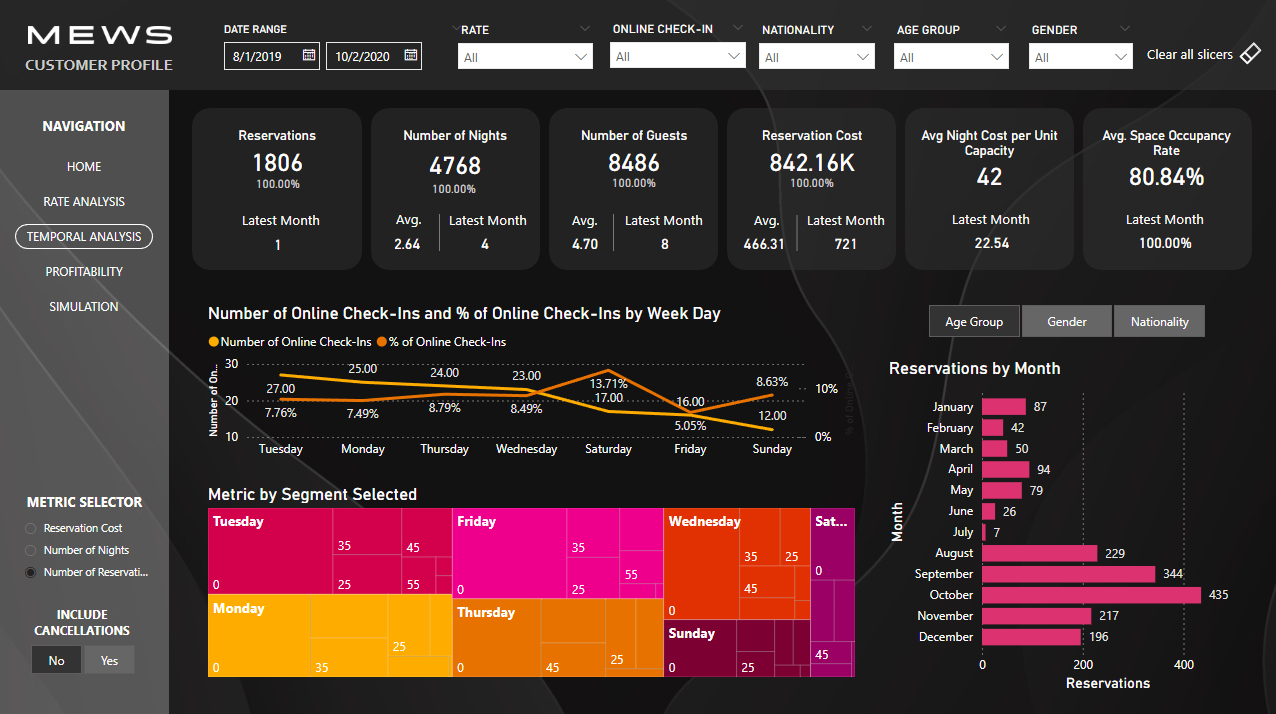

The page's visual inventory and layout, read from the dashboard file:
{"tool":"powerbi","page":{"name":"TEMPORAL ANALYSIS","canvas":[1280,720],"ordinal":2},"visuals":[{"type":"card","title":"Reservations","fields":{"Values":["int_reservations_enriched.Reservations"]},"box":[192.5,130,170,58.3],"z":0,"group":"g4"},{"type":"card","title":"Number of Nights","fields":{"Values":["int_reservations_enriched.Total Nights"]},"box":[371.4,130,169.2,62.5],"z":0,"group":"g3"},{"type":"card","title":"Number of Guests","fields":{"Values":["int_reservations_enriched.Number of Guests"]},"box":[550,130,170,56.7],"z":0,"group":"g2"},{"type":"card","title":"Reservation Cost","fields":{"Values":["int_reservations_enriched.Total Reservation Cost"]},"box":[727.5,130,170,56.7],"z":0,"group":"g1"},{"type":"shape","title":"Shader","box":[0,0,1280,720.9],"z":1000},{"type":"card","title":"Reservations %","fields":{"Values":["int_reservations_enriched.% Reservations"]},"box":[193.7,151.7,170,71.7],"z":1000,"group":"g4"},{"type":"card","title":"Number of Guests %","fields":{"Values":["int_reservations_enriched.% Reservation Cost"]},"box":[550,172.5,170,27.5],"z":1000,"group":"g2"},{"type":"card","title":"Night Cost %","fields":{"Values":["int_reservations_enriched.% Reservation Cost"]},"box":[727.5,172.5,170,27.5],"z":1000,"group":"g1"},{"type":"card","title":"% Number of Nights","fields":{"Values":["int_reservations_enriched.% Nights"]},"box":[370,177.9,170,28.3],"z":1000,"group":"g3"},{"type":"shape","title":"Side Bar","box":[0,91.9,169.8,627.7],"z":2000},{"type":"shape","title":"Header Bar","box":[0,0,1280,91.7],"z":3000},{"type":"textbox","title":"Customer Profile Text","box":[20.8,51.7,165.8,30.8],"z":4000},{"type":"image","title":"Mews Logo","box":[24.2,14.2,154.2,45.8],"z":5000},{"type":"shape","box":[193.3,110,169.2,161.7],"z":6000},{"type":"shape","box":[371.7,110,169.2,161.7],"z":7000},{"type":"shape","box":[1084.2,110,169.2,161.7],"z":8000},{"type":"shape","box":[905.8,110,169.2,161.7],"z":9000},{"type":"shape","box":[550,110,169.2,161.7],"z":10000},{"type":"shape","box":[727.5,110,169.2,161.7],"z":11000},{"type":"card","title":"Avg Night Cost per Unit Capacity","fields":{"Values":["int_reservations_enriched.AvgNightCostPerUnitCapacity"]},"box":[905.8,130,169.2,70.8],"z":12000},{"type":"actionButton","title":"Clear Slicers","box":[1144.2,30,123.3,50],"z":13000},{"type":"textbox","box":[0,114.2,170,31.7],"z":14000},{"type":"group","id":"g1","title":"Night Cost KPI","box":[727.5,130,170,70],"z":15000},{"type":"group","id":"g2","title":"Number of Guests KPI","box":[550,130,170,70],"z":16000},{"type":"group","id":"g3","title":"Number of Nights KPI","box":[370,130,170.8,75.8],"z":17000},{"type":"group","id":"g4","title":"Reservations KPI","box":[192.5,130,171.2,93.3],"z":18000},{"type":"treemap","title":"Metric by Segment","fields":{"Values":["int_reservations_enriched.Reservations"],"Details":["int_reservations_enriched.gender"],"Group":["int_reservations_enriched.WeekdayName"]},"box":[194.1,500.5,1059.9,197.2],"z":19000},{"type":"columnChart","fields":{"Y":["int_reservations_enriched.Reservations"],"Category":["int_reservations_enriched.start_datetime_utc.Variation.Date Hierarchy.Month"]},"box":[194.5,323.1,1059.3,162.9],"z":20000},{"type":"card","title":"Avg.","fields":{"Values":["int_reservations_enriched.avg_number_of_guests"]},"box":[548.3,216,75.8,62.5],"z":21000},{"type":"textbox","box":[568.3,207.5,46.7,33.3],"z":22000},{"type":"shape","box":[595.8,215.8,37.5,36.7],"z":23000},{"type":"card","title":"Avg.","fields":{"Values":["int_reservations_enriched.most_recent_month_guest_count"]},"box":[628.5,215.8,75.8,62.5],"z":24000},{"type":"textbox","box":[621,207.5,95.8,45],"z":25000},{"type":"card","title":"Avg.","fields":{"Values":["int_reservations_enriched.avg_number_of_nights"]},"box":[370,215.8,75.8,62.5],"z":26000},{"type":"textbox","box":[391.7,206.7,49.2,33.3],"z":27000},{"type":"shape","box":[421.7,215.8,37.5,36.7],"z":28000},{"type":"card","title":"Avg.","fields":{"Values":["int_reservations_enriched.latest_month_number_of_nights"]},"box":[448.3,215.8,75.8,62.5],"z":29000},{"type":"textbox","box":[445,207.5,95.8,45],"z":30000},{"type":"card","title":"Avg.","fields":{"Values":["int_reservations_enriched.latest_month_number_of_reservations"]},"box":[240.8,216.7,75.8,62.5],"z":31000},{"type":"textbox","box":[237.5,207.5,95.8,45],"z":32000},{"type":"card","title":"Avg. Space Occupancy Rate","fields":{"Values":["int_reservations_enriched.avg_occupancy_rate"]},"box":[1084.3,130.2,166.5,70.6],"z":33000},{"type":"card","title":"Avg.","fields":{"Values":["int_reservations_enriched.avg_reservation_cost"]},"box":[727.5,215.8,75.8,62.5],"z":34000},{"type":"textbox","box":[750,208.3,46.7,33.3],"z":35000},{"type":"shape","box":[779.2,216.7,37.5,36.7],"z":36000},{"type":"card","title":"Avg.","fields":{"Values":["int_reservations_enriched.latest_month_reservation_costs"]},"box":[809.2,215.8,75.8,62.5],"z":37000},{"type":"textbox","box":[803.3,208.3,95.8,45],"z":38000},{"type":"card","title":"Avg.","fields":{"Values":["int_reservations_enriched.latest_month_occupancy_rate"]},"box":[1128.3,214.2,75.8,62.5],"z":39000},{"type":"textbox","box":[1122.5,206.7,95.8,45],"z":40000},{"type":"card","title":"Avg.","fields":{"Values":["int_reservations_enriched.latest_month_night_cost_per_unit_capacity"]},"box":[955,214.2,75.8,62.5],"z":41000},{"type":"textbox","box":[948.3,206.7,95.8,45],"z":42000},{"type":"slicer","title":"Segment","fields":{"Values":["Legend Selector.Legend Selector"]},"box":[948.3,304.9,326.3,45.9],"z":43000},{"type":"pageNavigator","box":[15.8,155.8,138.3,167.2],"z":44000},{"type":"slicer","title":"Gender Slicer","fields":{"Values":["int_reservations_enriched.gender"]},"box":[1019.8,20.2,124.5,71.8],"z":45000},{"type":"slicer","title":"Nationality Slicer","fields":{"Values":["int_reservations_enriched.nationality_code"]},"box":[749.7,19.9,136,72.6],"z":46000},{"type":"slicer","title":"Age Slicer","fields":{"Values":["int_reservations_enriched.age_group"]},"box":[885.2,20.2,134.5,71.8],"z":47000},{"type":"slicer","title":"Rate Slicer","fields":{"Values":["int_reservations_enriched.rate_name"]},"box":[448.6,19.9,155.1,72.6],"z":48000},{"type":"slicer","title":"Rate Slicer","fields":{"Values":["int_reservations_enriched.OnlineCheckinText"]},"box":[601.4,19.1,155.1,72.6],"z":49000},{"type":"slicer","fields":{"Values":["int_reservations_enriched.start_datetime_utc"]},"box":[212.4,19.9,262.1,65],"z":50000},{"type":"slicer","title":"INCLUDE CANCELLATIONS","fields":{"Values":["IncludeCancellations.Include"]},"box":[6.1,607.5,154.4,75.7],"z":51000},{"type":"slicer","title":"METRIC SELECTOR","fields":{"Values":["Parameter.Metric Selector"]},"box":[13,503.1,144.2,104.3],"z":52000}]}

Visuals, with their boxes in screenshot pixels (x1, y1, x2, y2), scaled from the page's 1280x720 canvas onto the 1276x714 screenshot:
"Reservations" card: region(192, 129, 361, 187)
"Number of Nights" card: region(370, 129, 539, 191)
"Number of Guests" card: region(548, 129, 718, 185)
"Reservation Cost" card: region(725, 129, 895, 185)
"Shader" shape: region(0, 0, 1275, 713)
"Reservations %" card: region(193, 150, 363, 222)
"Number of Guests %" card: region(548, 171, 718, 198)
"Night Cost %" card: region(725, 171, 895, 198)
"% Number of Nights" card: region(369, 176, 538, 204)
"Side Bar" shape: region(0, 91, 169, 713)
"Header Bar" shape: region(0, 0, 1275, 91)
"Customer Profile Text" textbox: region(21, 51, 186, 82)
"Mews Logo" image: region(24, 14, 178, 60)
shape: region(193, 109, 361, 269)
shape: region(371, 109, 539, 269)
shape: region(1081, 109, 1249, 269)
shape: region(903, 109, 1072, 269)
shape: region(548, 109, 717, 269)
shape: region(725, 109, 894, 269)
"Avg Night Cost per Unit Capacity" card: region(903, 129, 1072, 199)
"Clear Slicers" actionButton: region(1141, 30, 1264, 79)
textbox: region(0, 113, 169, 145)
"Night Cost KPI" group: region(725, 129, 895, 198)
"Number of Guests KPI" group: region(548, 129, 718, 198)
"Number of Nights KPI" group: region(369, 129, 539, 204)
"Reservations KPI" group: region(192, 129, 363, 221)
"Metric by Segment" treemap: region(193, 496, 1250, 692)
columnChart - int_reservations_enriched.Reservations x int_reservations_enriched.start_datetime_utc.Variation.Date Hierarchy.Month: region(194, 320, 1250, 482)
"Avg." card: region(547, 214, 622, 276)
textbox: region(567, 206, 613, 239)
shape: region(594, 214, 631, 250)
"Avg." card: region(627, 214, 702, 276)
textbox: region(619, 206, 715, 250)
"Avg." card: region(369, 214, 444, 276)
textbox: region(390, 205, 440, 238)
shape: region(420, 214, 458, 250)
"Avg." card: region(447, 214, 522, 276)
textbox: region(444, 206, 539, 250)
"Avg." card: region(240, 215, 316, 277)
textbox: region(237, 206, 332, 250)
"Avg. Space Occupancy Rate" card: region(1081, 129, 1247, 199)
"Avg." card: region(725, 214, 801, 276)
textbox: region(748, 207, 794, 240)
shape: region(777, 215, 814, 251)
"Avg." card: region(807, 214, 882, 276)
textbox: region(801, 207, 896, 251)
"Avg." card: region(1125, 212, 1200, 274)
textbox: region(1119, 205, 1214, 250)
"Avg." card: region(952, 212, 1028, 274)
textbox: region(945, 205, 1041, 250)
"Segment" slicer: region(945, 302, 1271, 348)
pageNavigator: region(16, 155, 154, 320)
"Gender Slicer" slicer: region(1017, 20, 1141, 91)
"Nationality Slicer" slicer: region(747, 20, 883, 92)
"Age Slicer" slicer: region(882, 20, 1017, 91)
"Rate Slicer" slicer: region(447, 20, 602, 92)
"Rate Slicer" slicer: region(600, 19, 754, 91)
slicer - int_reservations_enriched.start_datetime_utc: region(212, 20, 473, 84)
"INCLUDE CANCELLATIONS" slicer: region(6, 602, 160, 678)
"METRIC SELECTOR" slicer: region(13, 499, 157, 602)
